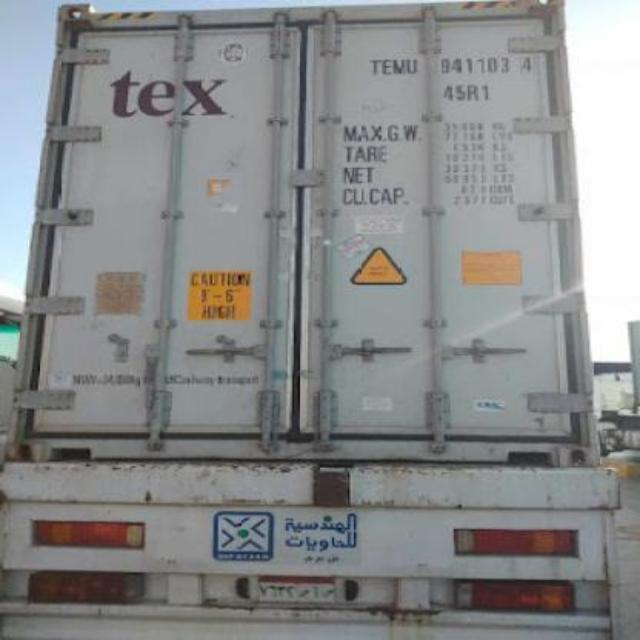0: (484, 56, 498, 74)
1: (464, 54, 476, 76), (478, 54, 486, 76)
3: (498, 55, 512, 75)
4: (450, 56, 462, 74), (524, 56, 532, 74)
9: (438, 57, 452, 77)
E: (380, 58, 392, 78)
M: (390, 59, 406, 75)
T: (368, 57, 382, 77)
U: (408, 58, 418, 74)
